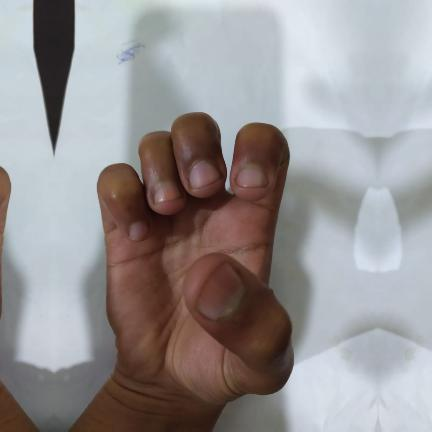Nail: (194, 262, 247, 321), (189, 160, 220, 188), (236, 165, 267, 188), (154, 182, 181, 204), (129, 222, 144, 241)
